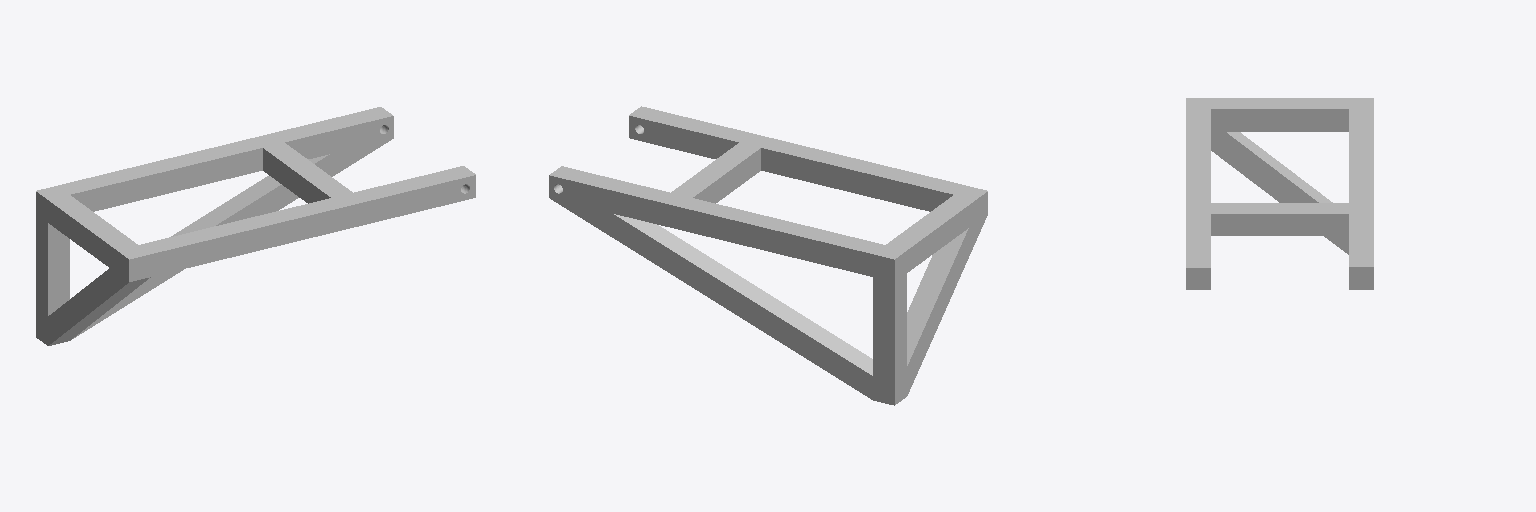
The model's file is Prieksejais_Plecs.obj.
3 views of the same model, side by side, from view 1: azimuth 30°, elevation 25°; view 2: azimuth 150°, elevation 25°; view 3: azimuth 270°, elevation 25° (orthographic).
Parts seen in each view (by area): view 1: Priekšējais_Plecs; view 2: Priekšējais_Plecs; view 3: Priekšējais_Plecs.
Boxes of the visible parts, box(x1,y1,x2,y2) form: Priekšējais_Plecs: box(36, 107, 475, 345); Priekšējais_Plecs: box(549, 106, 987, 405); Priekšējais_Plecs: box(1186, 98, 1373, 289).
Bounding box in the file's own units: 39.75 × 15.99 × 18.6.